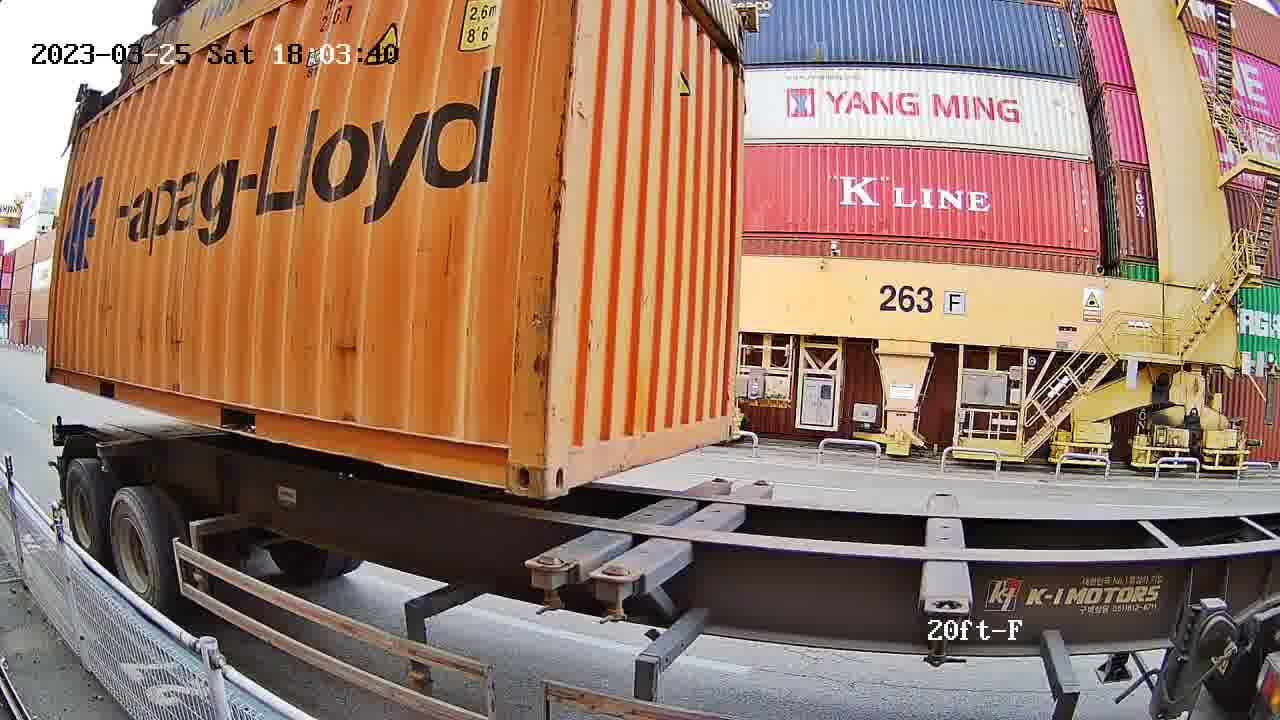Chassis: (592, 484, 773, 593), (526, 480, 735, 567)
Cone: (527, 553, 578, 618), (596, 568, 642, 627)
Hole_L: (544, 429, 592, 500)
Hole_R: (478, 426, 546, 500), (711, 406, 733, 442)
Tire: (108, 494, 161, 612), (63, 462, 103, 559)
